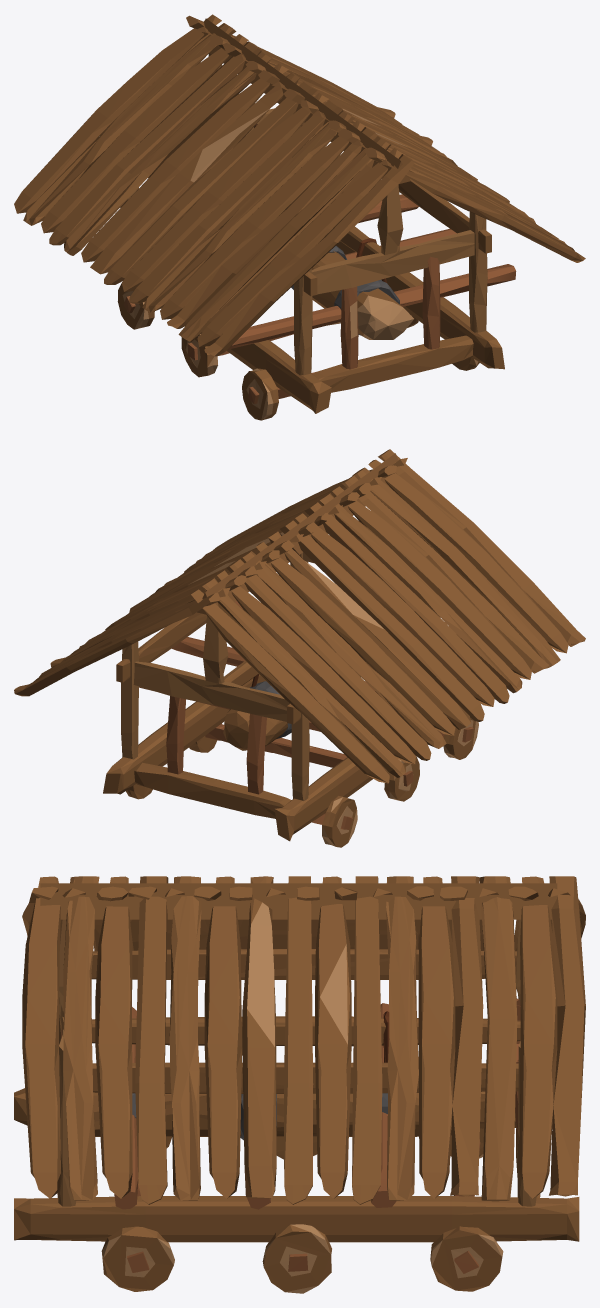
The model's file is LPSWP_Ram01.fbx.
3 renders of one model, top to bottom at view 1: azimuth 30°, elevation 25°; view 2: azimuth 150°, elevation 25°; view 3: azimuth 270°, elevation 25°, orthographic. The views are drawn at different scales.
Parts seen in each view (by area): view 1: LPSWP_Ram01_Roof, LPSWP_Ram01, LPSWP_Ram01_Ram, LPSWP_Ram01_ForwardWheel, LPSWP_Ram01_MiddleWheel, LPSWP_Ram01_BackwardWheel; view 2: LPSWP_Ram01_Roof, LPSWP_Ram01, LPSWP_Ram01_Ram, LPSWP_Ram01_MiddleWheel, LPSWP_Ram01_BackwardWheel, LPSWP_Ram01_ForwardWheel; view 3: LPSWP_Ram01_Roof, LPSWP_Ram01, LPSWP_Ram01_Ram, LPSWP_Ram01_MiddleWheel, LPSWP_Ram01_BackwardWheel, LPSWP_Ram01_ForwardWheel.
Part boxes in pixels (x1,y1,x2,y2): LPSWP_Ram01_Roof: (14, 14, 585, 356); LPSWP_Ram01: (120, 53, 504, 413); LPSWP_Ram01_Ram: (228, 194, 516, 349); LPSWP_Ram01_ForwardWheel: (242, 357, 479, 420); LPSWP_Ram01_MiddleWheel: (181, 314, 418, 377); LPSWP_Ram01_BackwardWheel: (117, 283, 154, 329); LPSWP_Ram01_Roof: (14, 449, 585, 783); LPSWP_Ram01: (103, 552, 440, 841); LPSWP_Ram01_Ram: (139, 601, 380, 750); LPSWP_Ram01_MiddleWheel: (189, 723, 419, 801); LPSWP_Ram01_BackwardWheel: (126, 784, 357, 847); LPSWP_Ram01_ForwardWheel: (438, 718, 478, 759); LPSWP_Ram01_Roof: (22, 876, 585, 1204); LPSWP_Ram01: (14, 919, 579, 1242); LPSWP_Ram01_Ram: (93, 1003, 451, 1209); LPSWP_Ram01_MiddleWheel: (262, 1137, 331, 1293); LPSWP_Ram01_BackwardWheel: (430, 1129, 503, 1291); LPSWP_Ram01_ForwardWheel: (101, 1137, 174, 1291).
Size of the model in its own units: 442 by 284 by 428.
